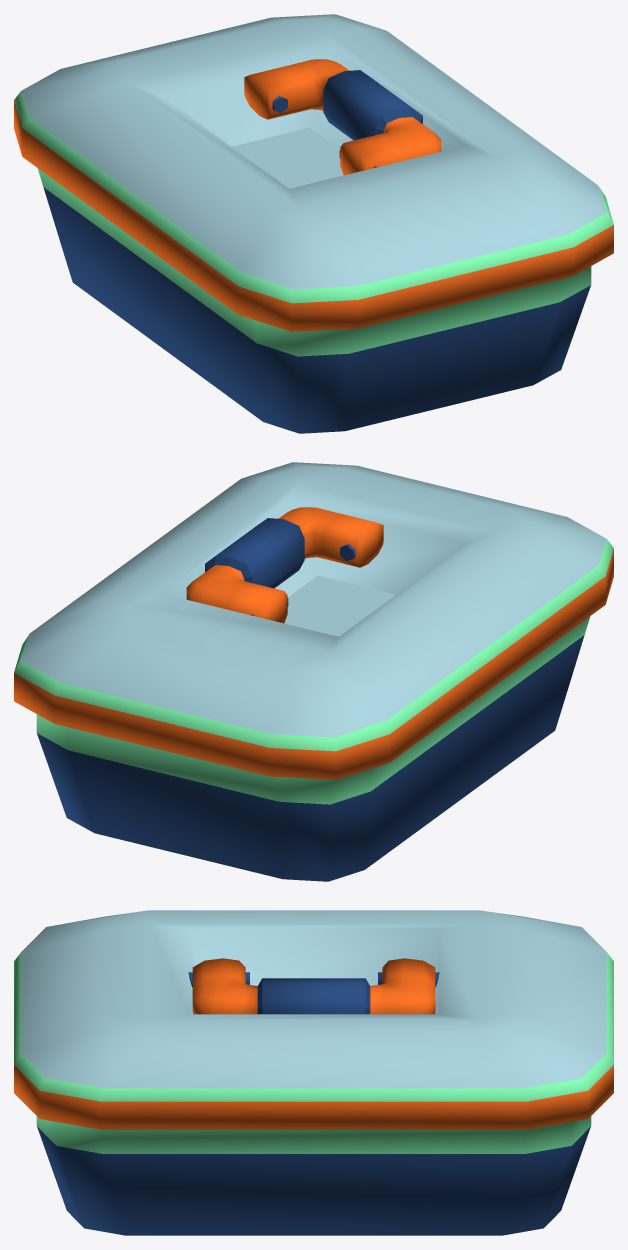
The picture shows the model from 3 angles, top to bottom: view 1: azimuth 30°, elevation 25°; view 2: azimuth 150°, elevation 25°; view 3: azimuth 270°, elevation 25°; orthographic projection.
Visible parts, largest first — view 1: Lunchbox, Handle; view 2: Lunchbox, Handle; view 3: Lunchbox, Handle.
Part boxes in pixels (x1,y1,x2,y2): Lunchbox: (14, 14, 613, 433); Handle: (244, 59, 441, 175); Lunchbox: (14, 462, 613, 881); Handle: (186, 507, 383, 623); Lunchbox: (14, 910, 613, 1235); Handle: (188, 958, 439, 1014).
Bounding box in the file's own units: 0.1578 × 0.0872 × 0.226.
